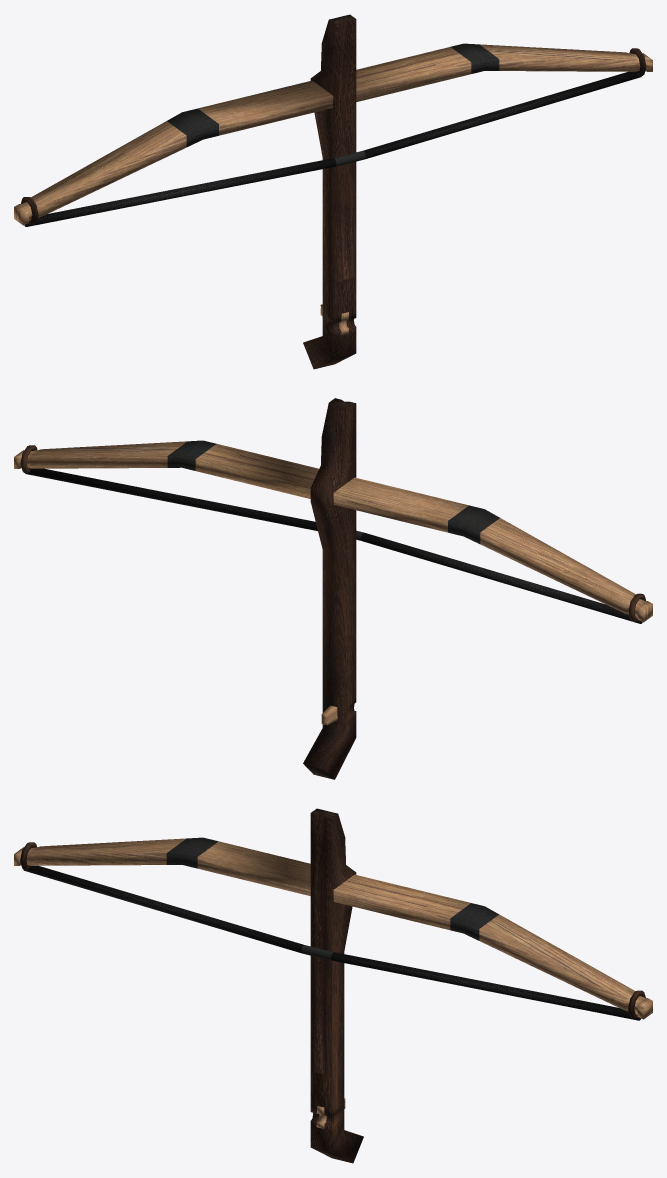
Rendered from CrossBow.fbx.
The picture shows the model from 3 angles, top to bottom: view 1: azimuth 30°, elevation 25°; view 2: azimuth 150°, elevation 25°; view 3: azimuth 330°, elevation 25°; orthographic projection.
Visible parts, largest first — view 1: crossbow; view 2: crossbow; view 3: crossbow.
Part boxes in pixels (bbox=[...]): crossbow: bbox=[14, 14, 652, 369]; crossbow: bbox=[14, 398, 652, 779]; crossbow: bbox=[14, 808, 652, 1163].
Size of the model in its own units: 173 by 17.86 by 94.65.
4 materials, 4 textured.
